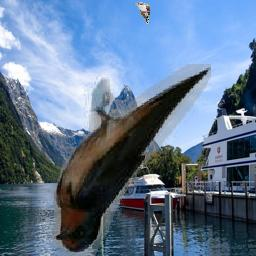Cuckoo: (134, 2, 150, 24)
Swallow: (51, 64, 212, 256)
